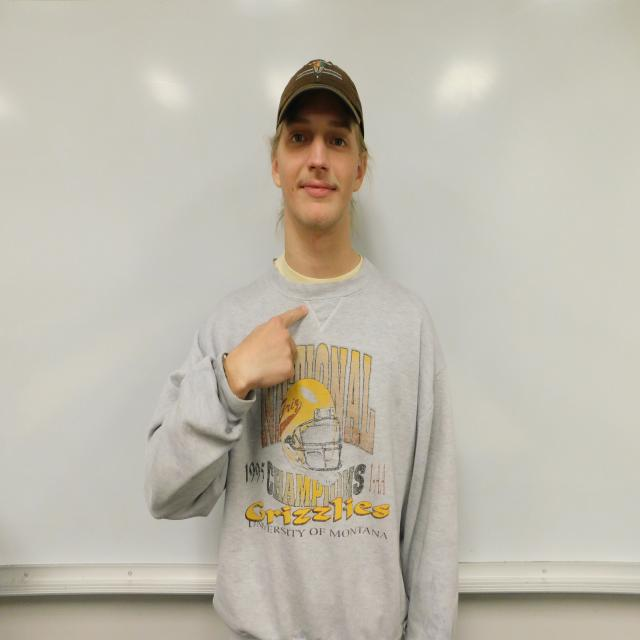I: (238, 305, 308, 389)
